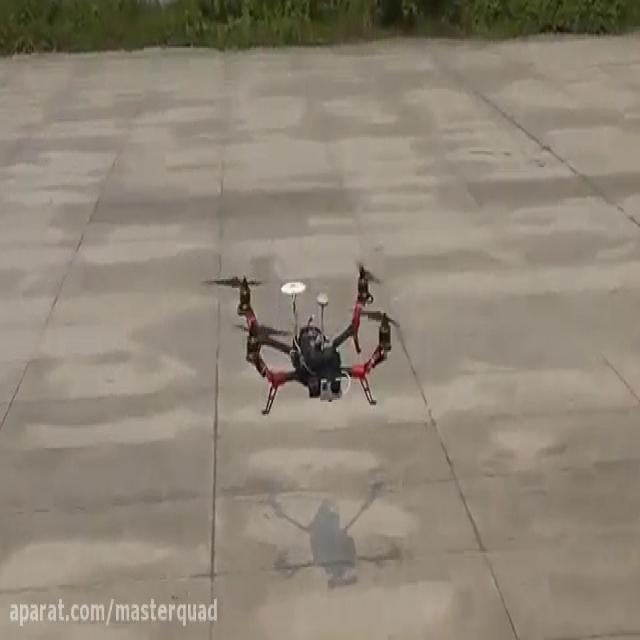drone: (195, 252, 402, 418)
